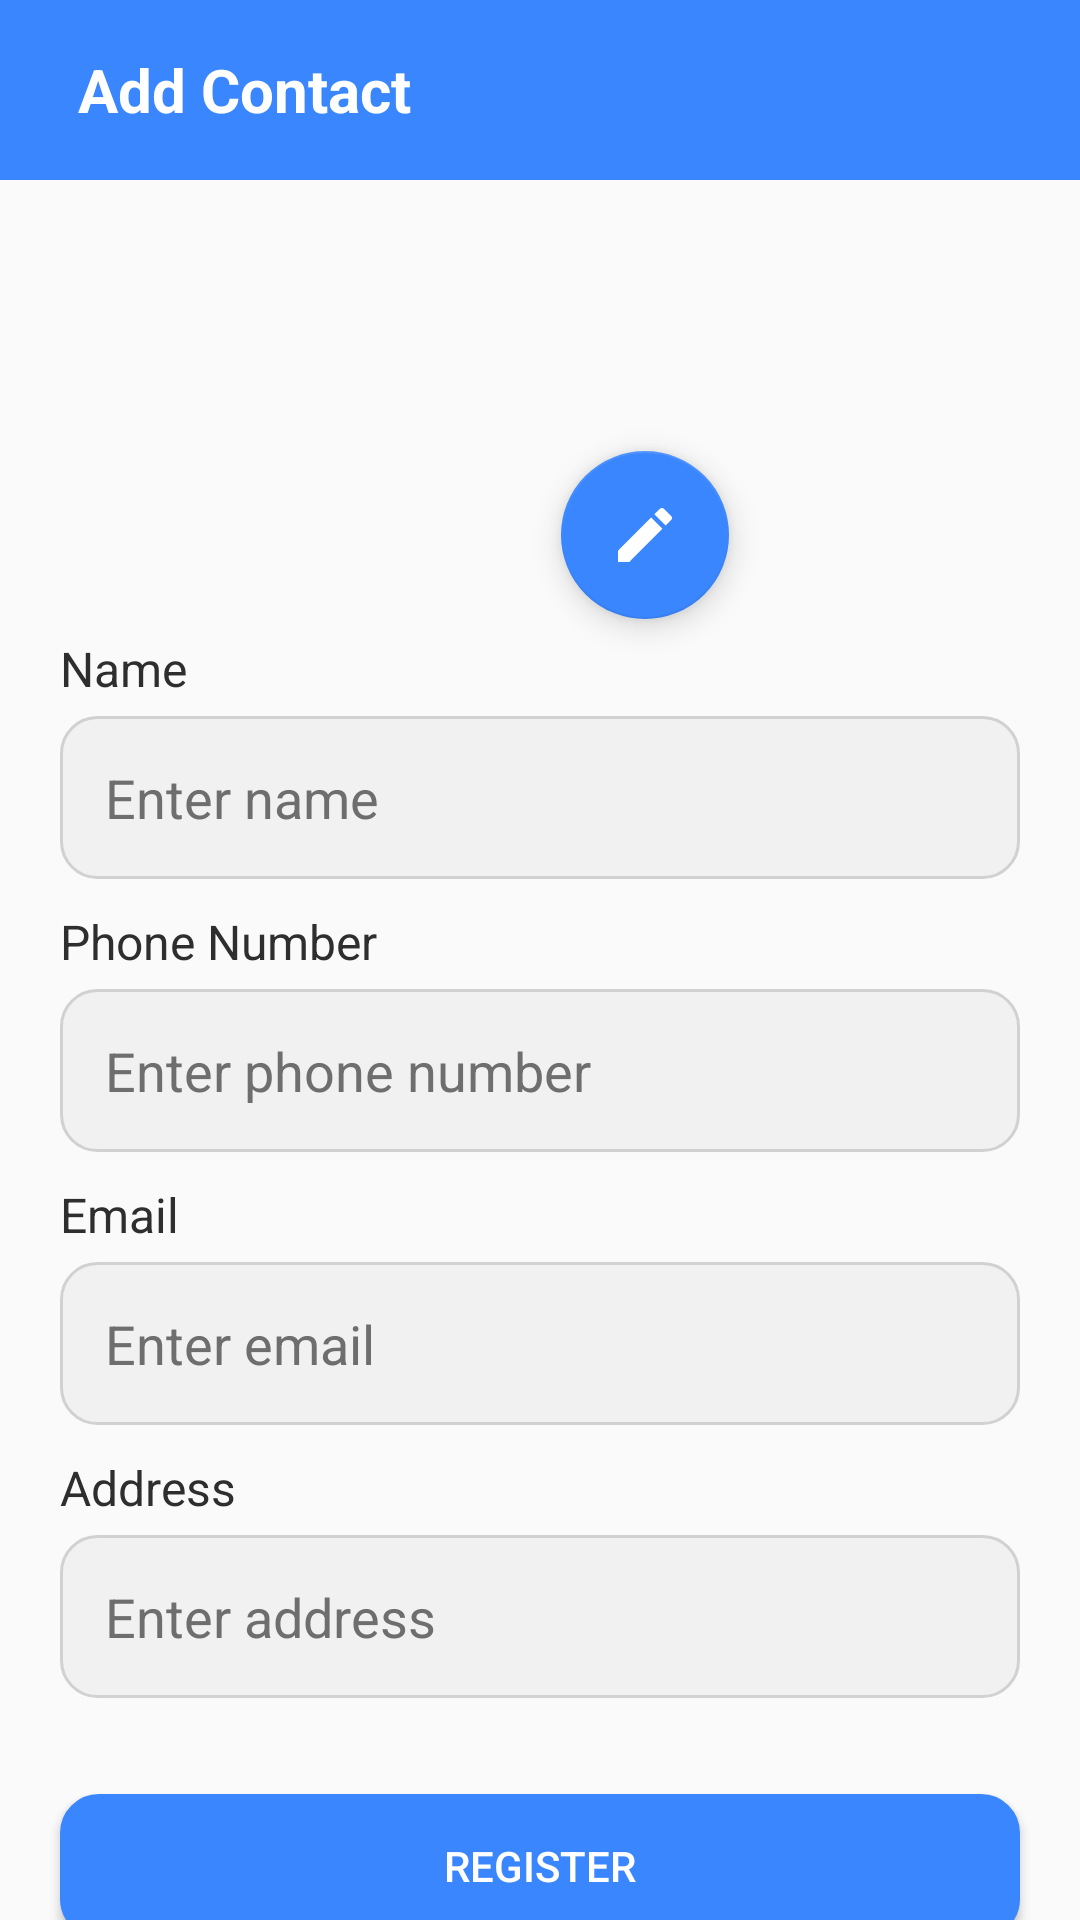

Named icons in this screenshot (1080x1920) and their bounding boxes, BBox(x1, y1, x2, y2):
Edit profile image: BBox(561, 451, 729, 619)
